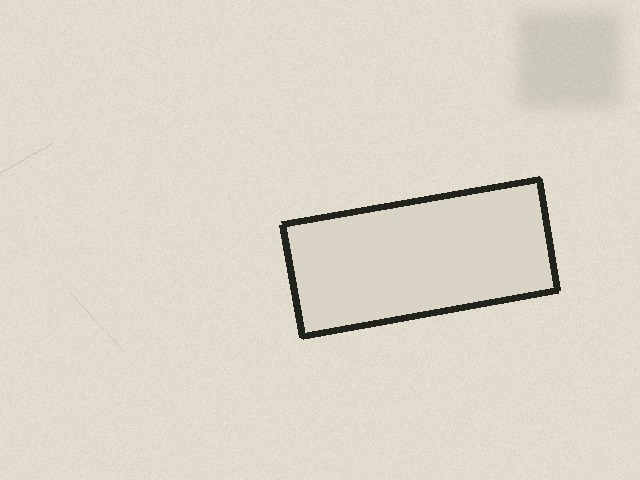parking_area: (282, 179, 557, 336)
